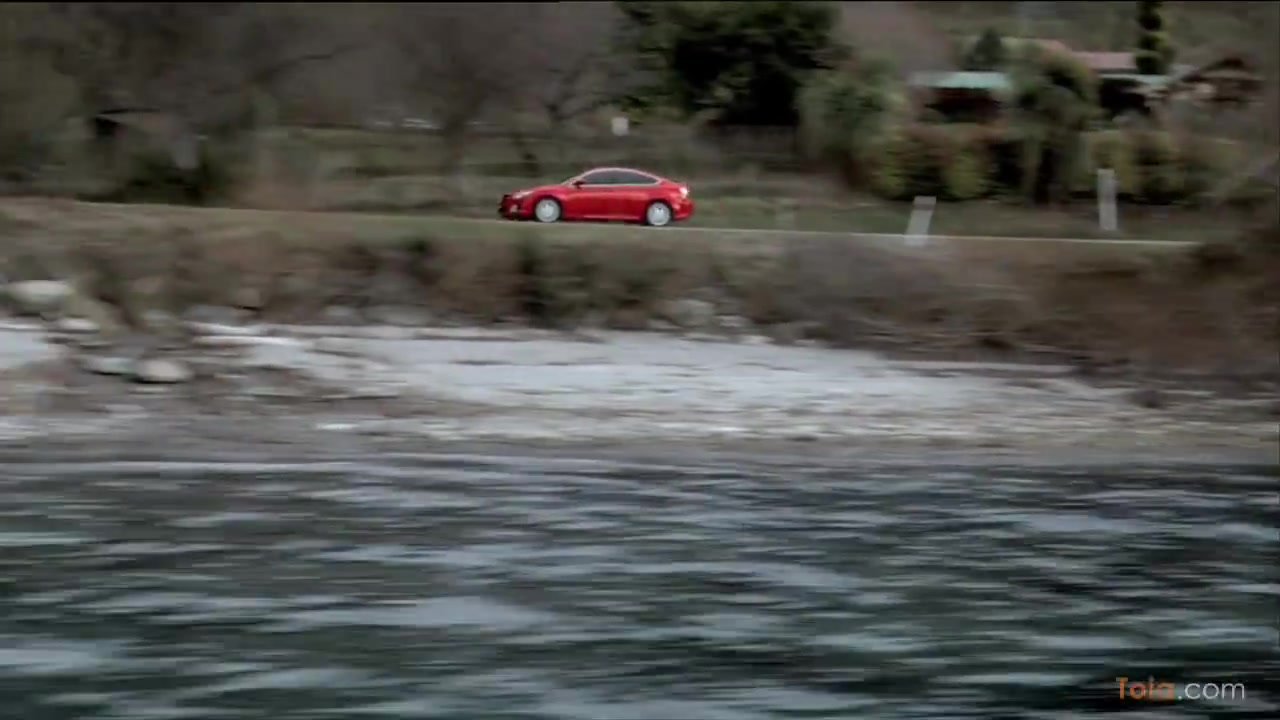car: (501, 160, 697, 230)
